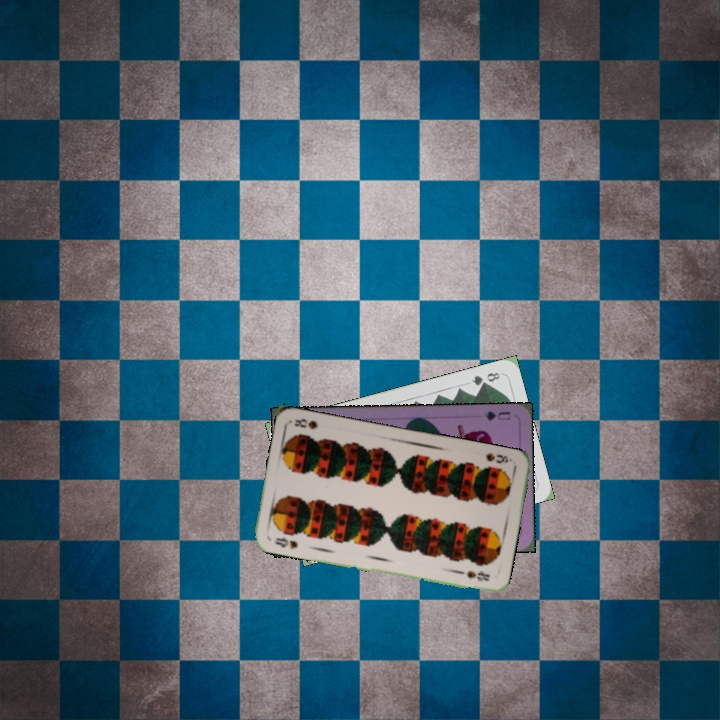G8: (467, 368, 503, 388)
GU: (480, 407, 512, 423)
S8: (482, 449, 515, 466), (270, 533, 300, 551)
